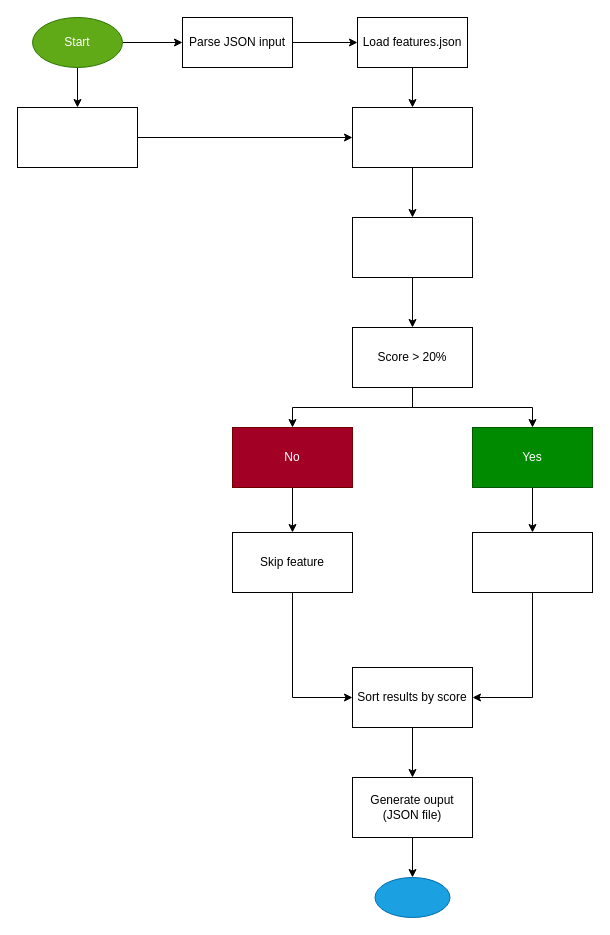
Image size: 610x935. Some labels were removed from this diagram. Each missing label, with the box of its shape:
Add to results: (472, 532, 592, 592)
End: (374, 876, 450, 918)
Loop through features: (352, 106, 472, 168)
Match keywords and pain_points: (352, 216, 472, 278)
Tokenize pain_points: (16, 106, 138, 168)
